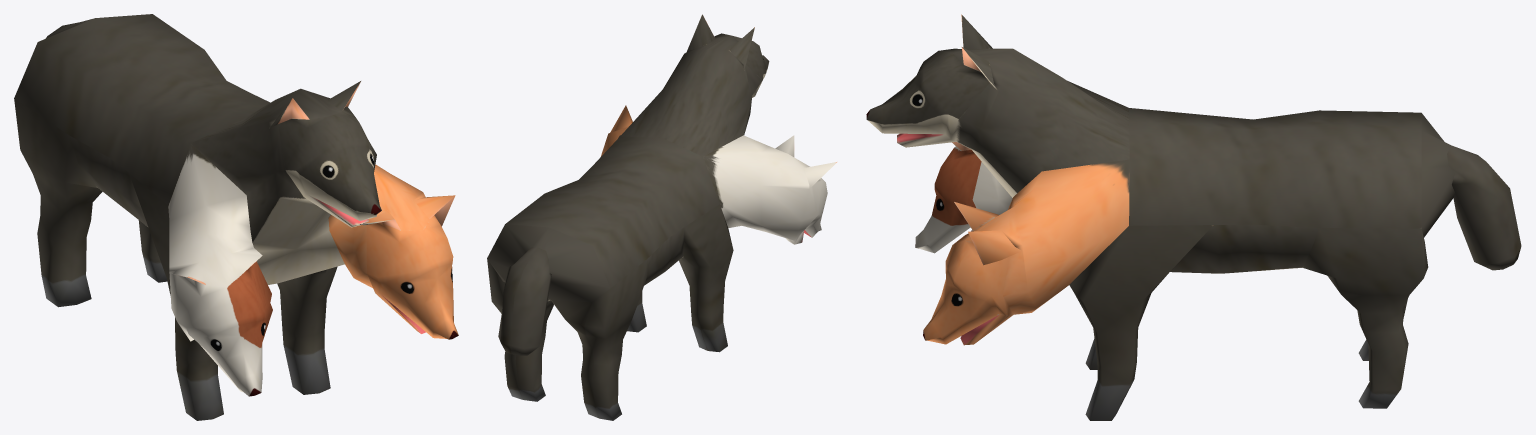
Rendered from cerberus.fbx.
3 renders of one model, left to right at view 1: azimuth 30°, elevation 25°; view 2: azimuth 150°, elevation 25°; view 3: azimuth 270°, elevation 25°, orthographic. The views are drawn at different scales.
Parts seen in each view (by area): view 1: pCone11; view 2: pCone11; view 3: pCone11.
Boxes of the visible parts, <box> form: pCone11: <box>14,14,458,420</box>; pCone11: <box>487,14,836,420</box>; pCone11: <box>866,14,1521,420</box>.
Bounding box in the file's own units: 103 × 129 × 213.
